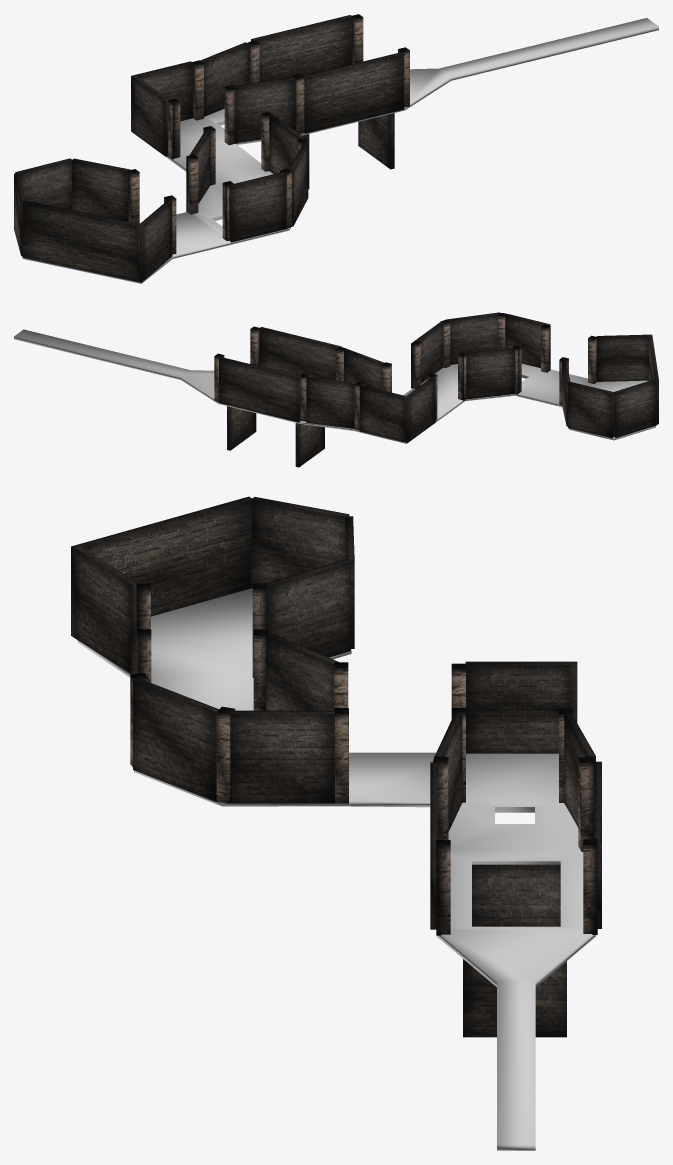
File: escenary_demo.fbx
3 views of the same model, one above another, from view 1: azimuth 30°, elevation 25°; view 2: azimuth 150°, elevation 25°; view 3: azimuth 270°, elevation 25° (orthographic). The views are drawn at different scales.
Visible parts, largest first — view 1: floor, corener1, w2, w1, corner2, w8, w9, w4, w3, w10, w12, w6 (+13 smaller); view 2: floor, w1, corner2, w2, corener1, w5, w3, w10, w11, w7, w8, w4 (+16 smaller); view 3: floor, corener1, w6, corner2, w7, w11, w9, w13, w5, w12, w3, w4 (+9 smaller).
Boxes of the visible parts, x1=… form: floor: x1=22, y1=18, x2=658, y2=283; corener1: x1=22, y1=200, x2=172, y2=282; w2: x1=303, y1=52, x2=404, y2=133; w1: x1=251, y1=15, x2=352, y2=81; corner2: x1=131, y1=61, x2=192, y2=156; w8: x1=229, y1=172, x2=286, y2=242; w9: x1=72, y1=158, x2=130, y2=221; w4: x1=234, y1=77, x2=295, y2=142; w3: x1=200, y1=42, x2=248, y2=116; w10: x1=15, y1=158, x2=71, y2=209; w12: x1=358, y1=113, x2=394, y2=169; w6: x1=269, y1=115, x2=305, y2=173; floor: x1=14, y1=329, x2=655, y2=443; w1: x1=219, y1=357, x2=300, y2=422; corner2: x1=359, y1=377, x2=435, y2=442; w2: x1=259, y1=327, x2=341, y2=379; corener1: x1=596, y1=334, x2=658, y2=424; w5: x1=466, y1=348, x2=515, y2=399; w3: x1=306, y1=376, x2=356, y2=428; w10: x1=568, y1=382, x2=613, y2=438; w11: x1=614, y1=379, x2=657, y2=437; w7: x1=446, y1=312, x2=499, y2=364; w8: x1=505, y1=313, x2=550, y2=367; w4: x1=344, y1=348, x2=384, y2=389; floor: x1=77, y1=588, x2=595, y2=1150; corener1: x1=71, y1=496, x2=251, y2=673; w6: x1=231, y1=710, x2=334, y2=803; corner2: x1=465, y1=661, x2=577, y2=753; w7: x1=133, y1=679, x2=218, y2=801; w11: x1=251, y1=497, x2=349, y2=588; w9: x1=266, y1=559, x2=350, y2=657; w13: x1=472, y1=864, x2=560, y2=926; w5: x1=266, y1=632, x2=338, y2=710; w12: x1=463, y1=959, x2=566, y2=1037; w3: x1=564, y1=714, x2=595, y2=827; w4: x1=435, y1=714, x2=462, y2=831.
Bounding box in the file's own units: 274 × 44.91 × 110.
